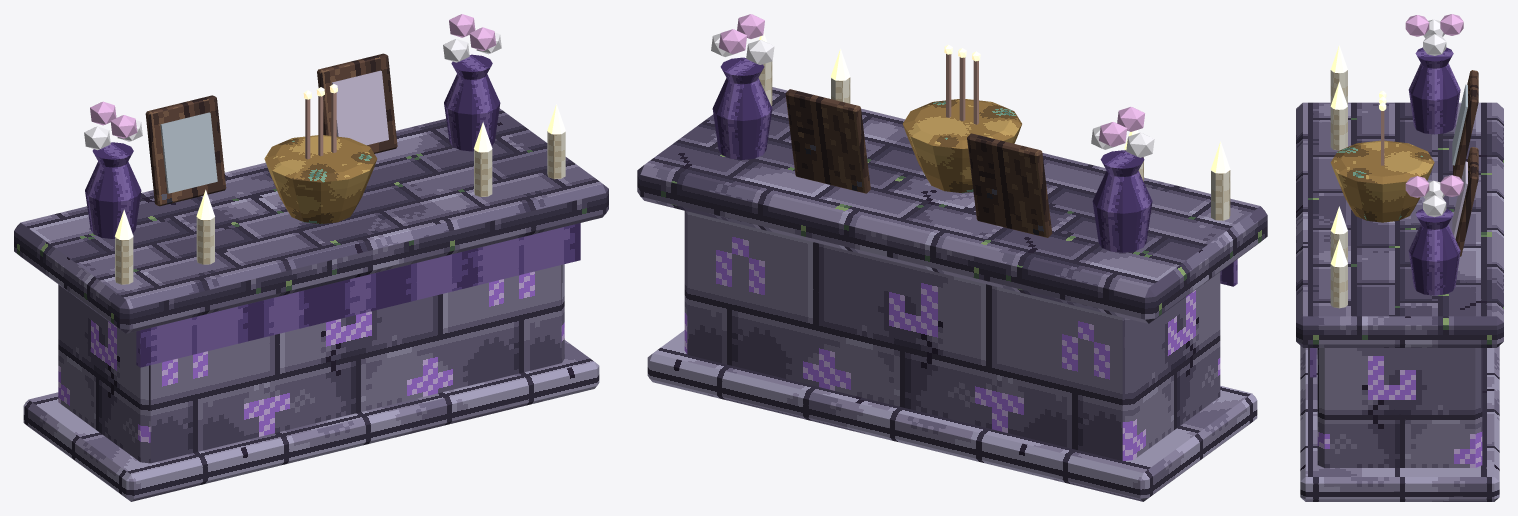
File: tower_altar.glb
3 renders of one model, left to right at view 1: azimuth 30°, elevation 25°; view 2: azimuth 150°, elevation 25°; view 3: azimuth 270°, elevation 25°, orthographic. The views are drawn at different scales.
Visible parts, largest first — view 1: Altar, Glow; view 2: Altar, Glow; view 3: Altar, Glow.
Part boxes in pixels (<box>): Altar: <box>14,14,608,501</box>; Glow: <box>115,84,565,239</box>; Altar: <box>637,14,1267,501</box>; Glow: <box>759,32,1230,173</box>; Altar: <box>1296,14,1503,501</box>; Glow: <box>1330,45,1386,266</box>.
Size of the model in its own units: 3 by 1.93 by 1.2.
Materials: 14 (7 with a texture image).
